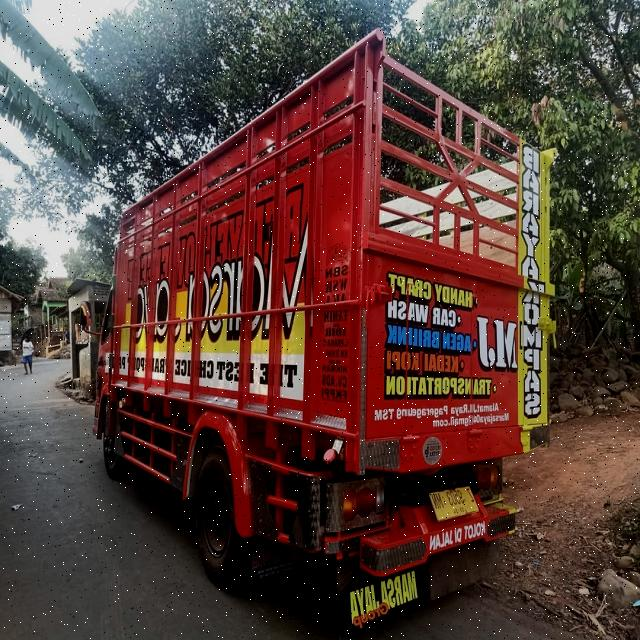truck: (94, 26, 560, 630)
